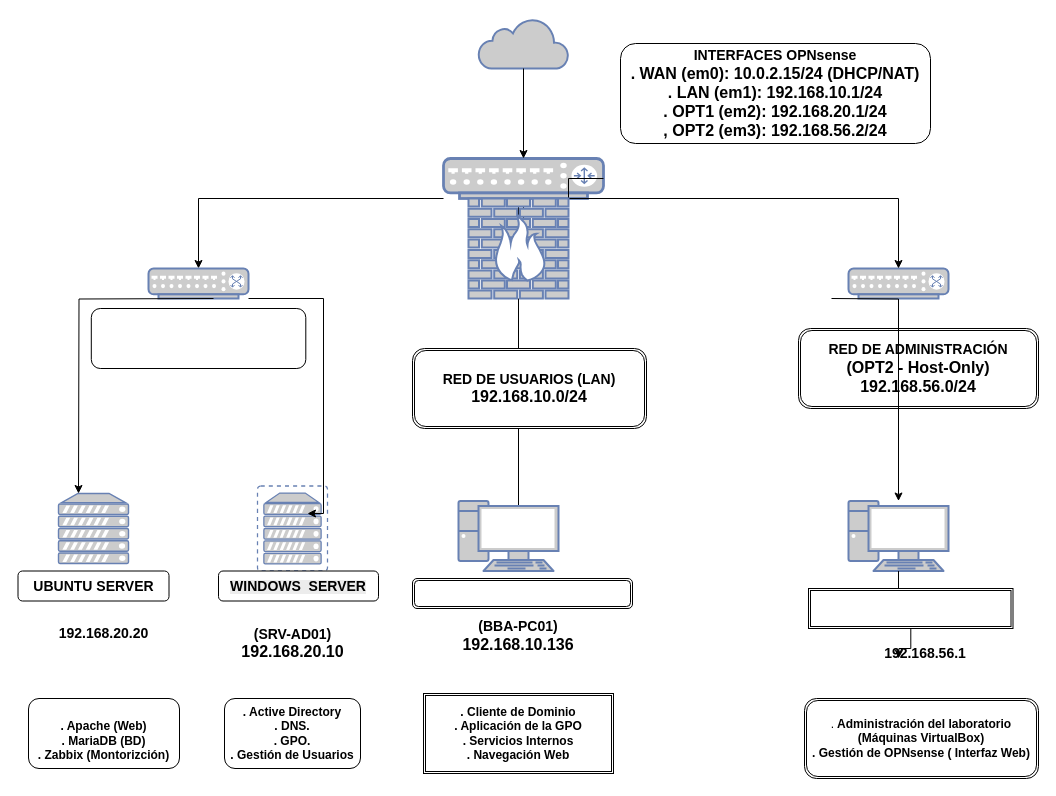
Image size: 1056x796. Some labels were removed from this diagram. The centre of each missing label's shape, as x and y in pixels:
"EQUIPO ANFITRIÓN (WINDOWS 11)" belongs at [910,608].
"INTERNET" belongs at [523,43].
"OPNsense - Firewall" belongs at [518,248].
"RED DE SERVIDORES (OPT1) 192.168.20.0/24" belongs at [198,338].
"WINDOWS 10" belongs at [522,593].
